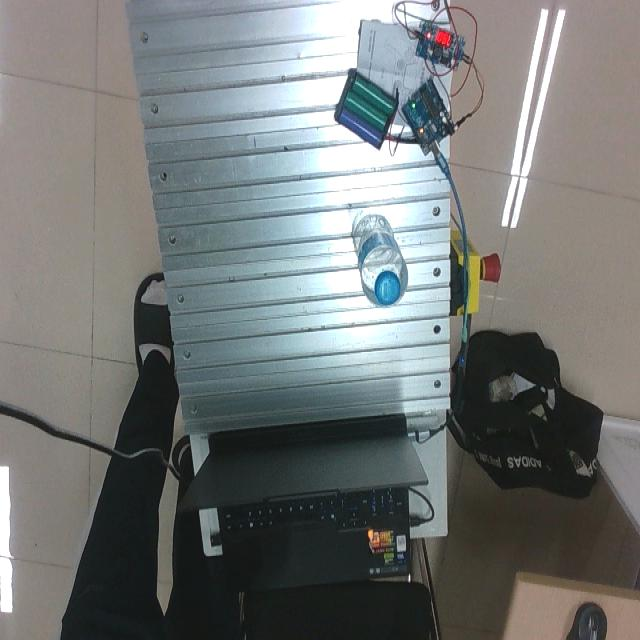lavie: (353, 213, 409, 310)
